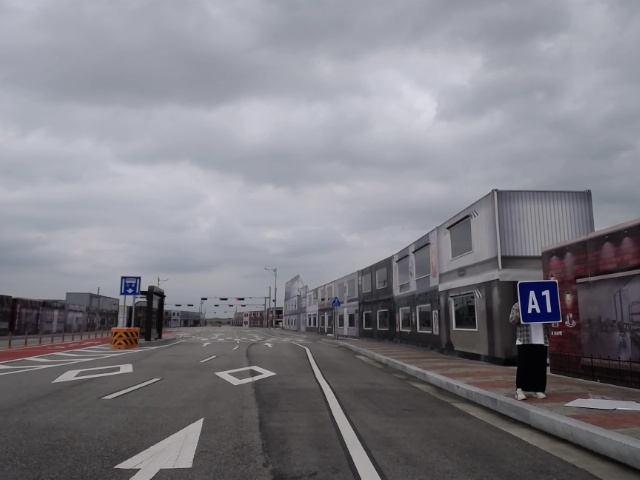delivery_a1: (518, 279, 561, 323)
